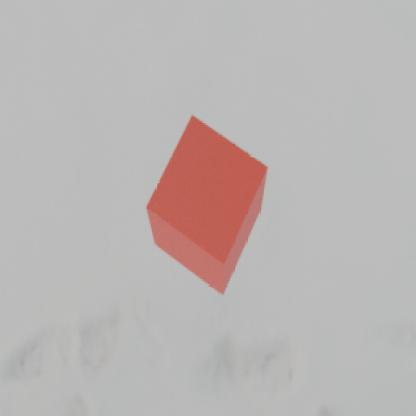cube: (144, 112, 268, 294)
